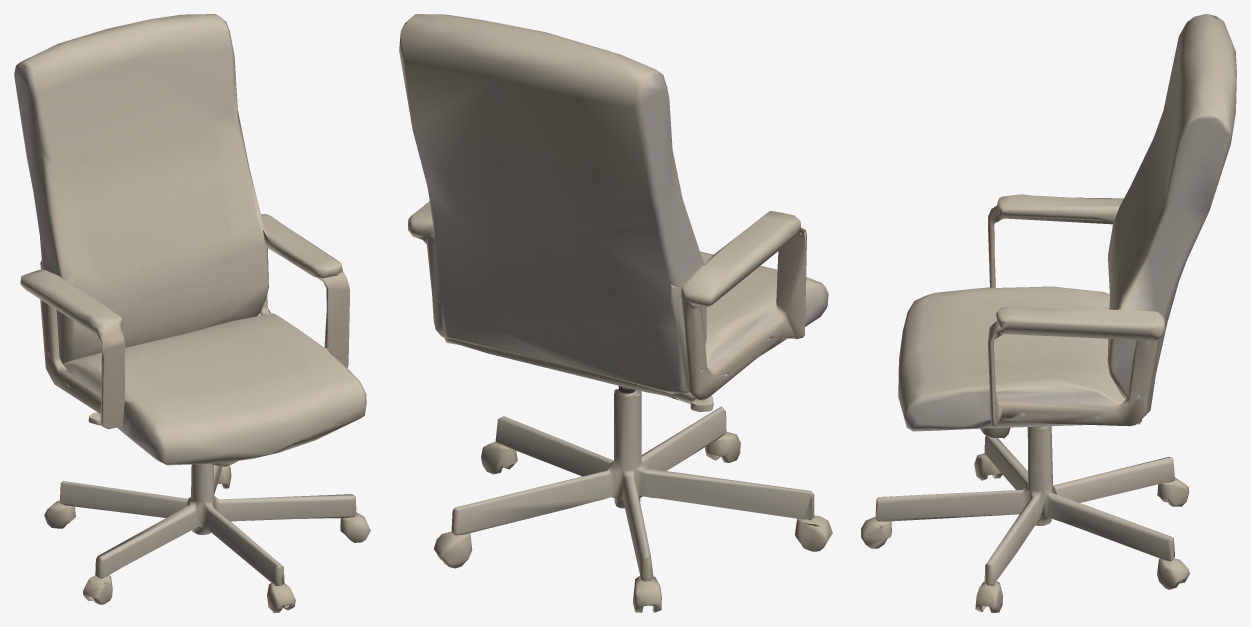
The model's file is 03 - MILLBERGET Swivel chair - Murum beige.glb.
3 renders of one model, left to right at view 1: azimuth 30°, elevation 25°; view 2: azimuth 150°, elevation 25°; view 3: azimuth 270°, elevation 25°, orthographic. The views are drawn at different scales.
Visible parts, largest first — view 1: model; view 2: model; view 3: model.
Boxes of the visible parts, x1,y1,x2,y2 form: model: [14, 14, 370, 612]; model: [399, 14, 832, 612]; model: [861, 14, 1236, 612].
Size of the model in its own units: 0.7147 by 1.12 by 0.7773.
1 material, 1 textured.
